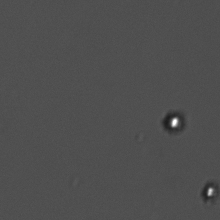Living Cell: (159, 106, 189, 136), (202, 176, 219, 205)
